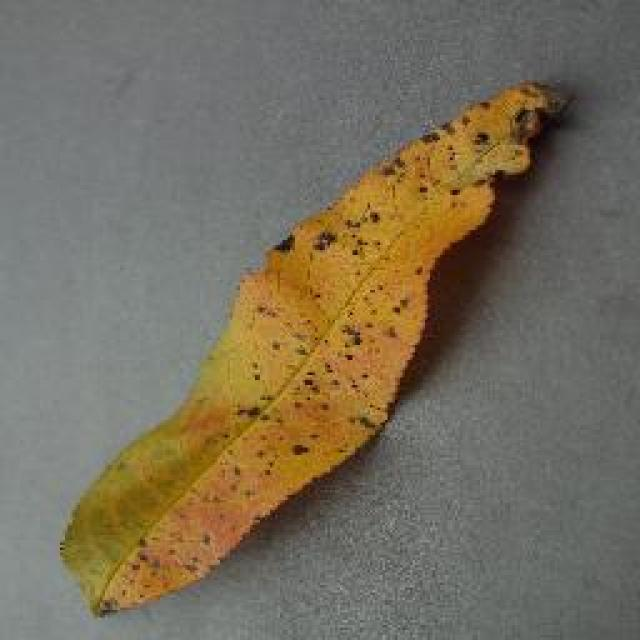Peach_Bacterial_Spot: (255, 192, 462, 485)
